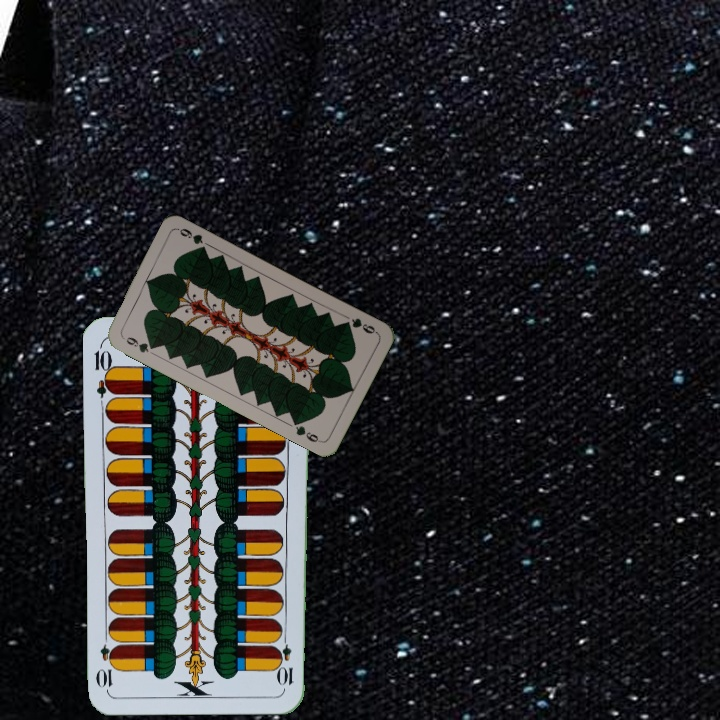E10: (91, 340, 117, 399), (277, 629, 296, 688)
G9: (339, 314, 380, 336), (119, 333, 158, 355)
